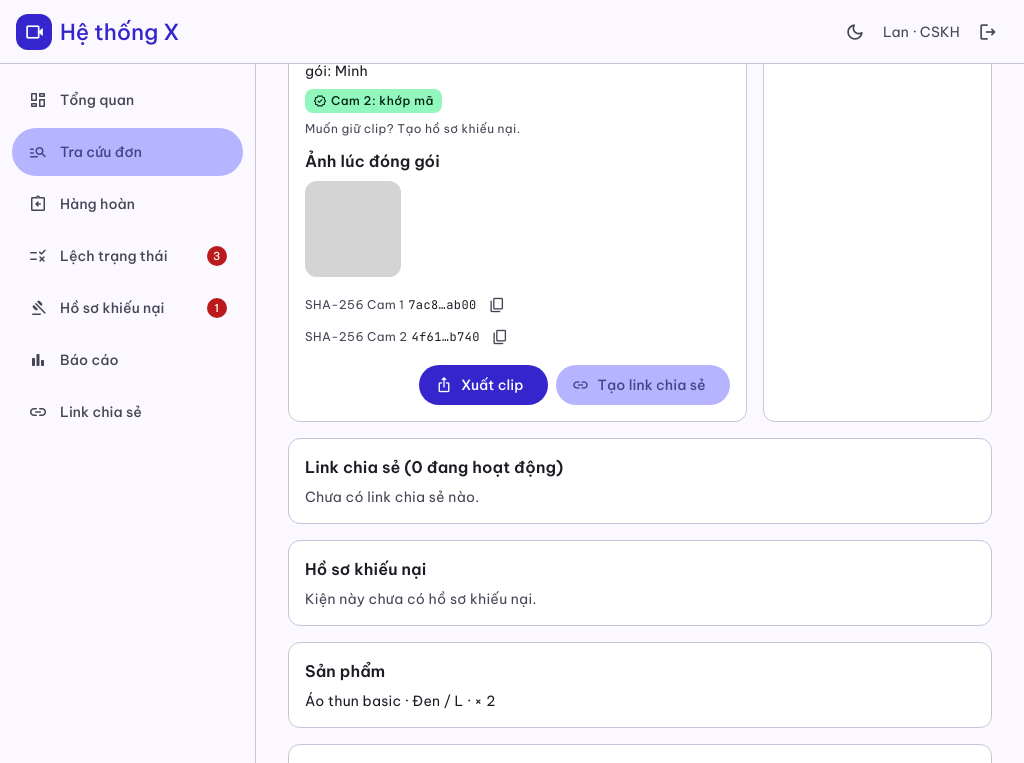
D4: 'Tạo link chia sẻ' trên phiên có clip → nguồn phiên, phiên đó chọn sẵn
(page scrolled)
Click the button "Tạo link chia sẻ": click(643, 385) [556,365,730,405]
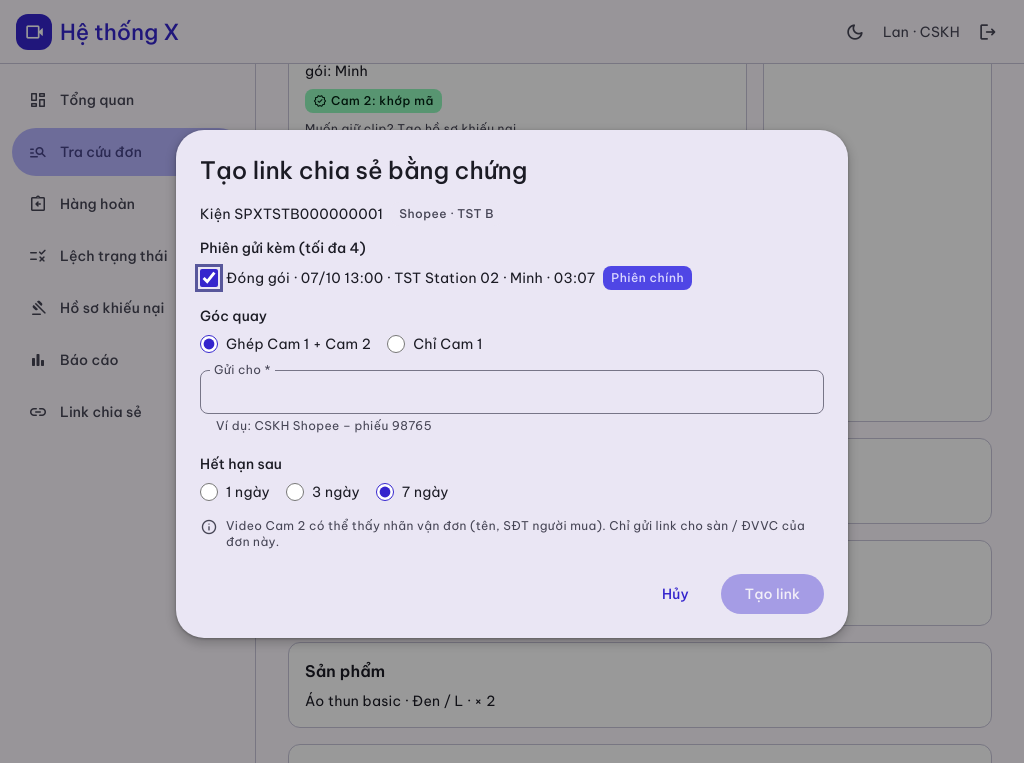
Expected: the text "Kiện SPXTSTB000000001" is shown, [200,204,383,224]
Expected: the number of checkboxes labelled "Đóng gói" is 1, [200,269,218,287]
Expected: the checkbox labelled "Đóng gói" is checked, [200,269,218,287]
